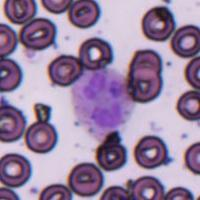N: (73, 68, 134, 138)
